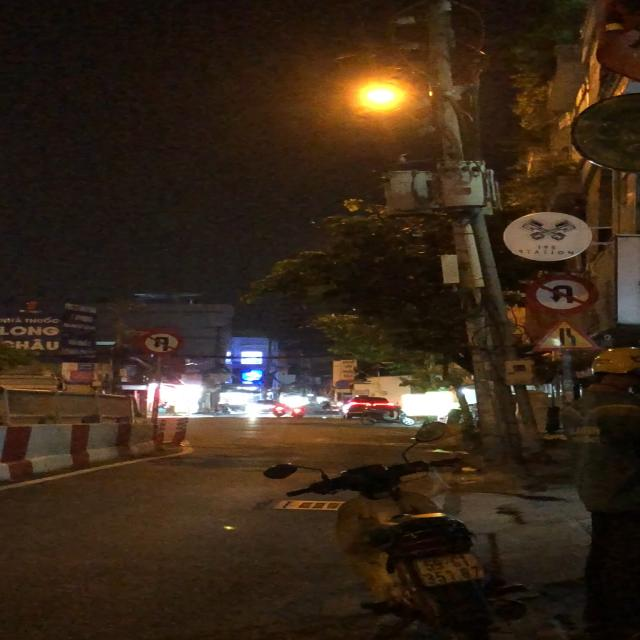Bien bao cam quay dau xe: (522, 272, 601, 314), (136, 328, 188, 356)
Bien bao duong bi thu hep: (525, 316, 610, 351)
